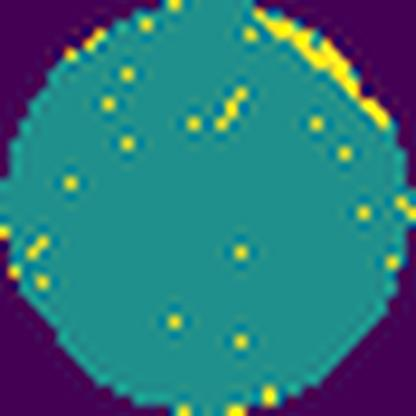Edge-Loc: (254, 10, 396, 128)
